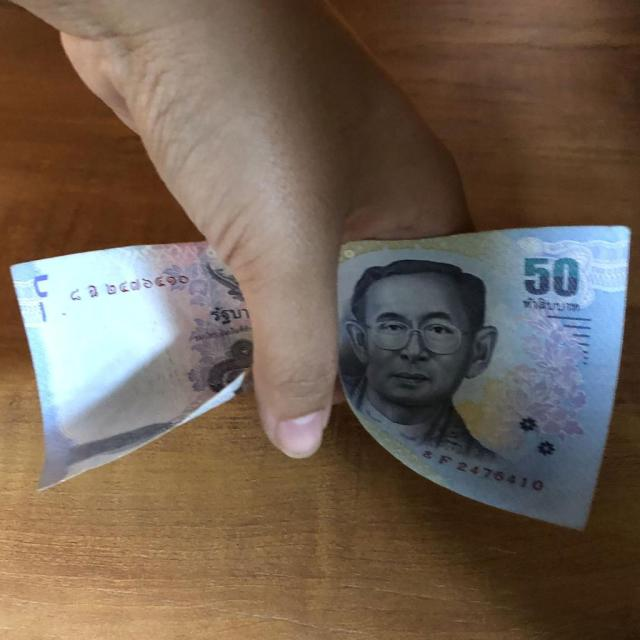THAI50: (336, 226, 631, 531), (9, 241, 254, 491)
